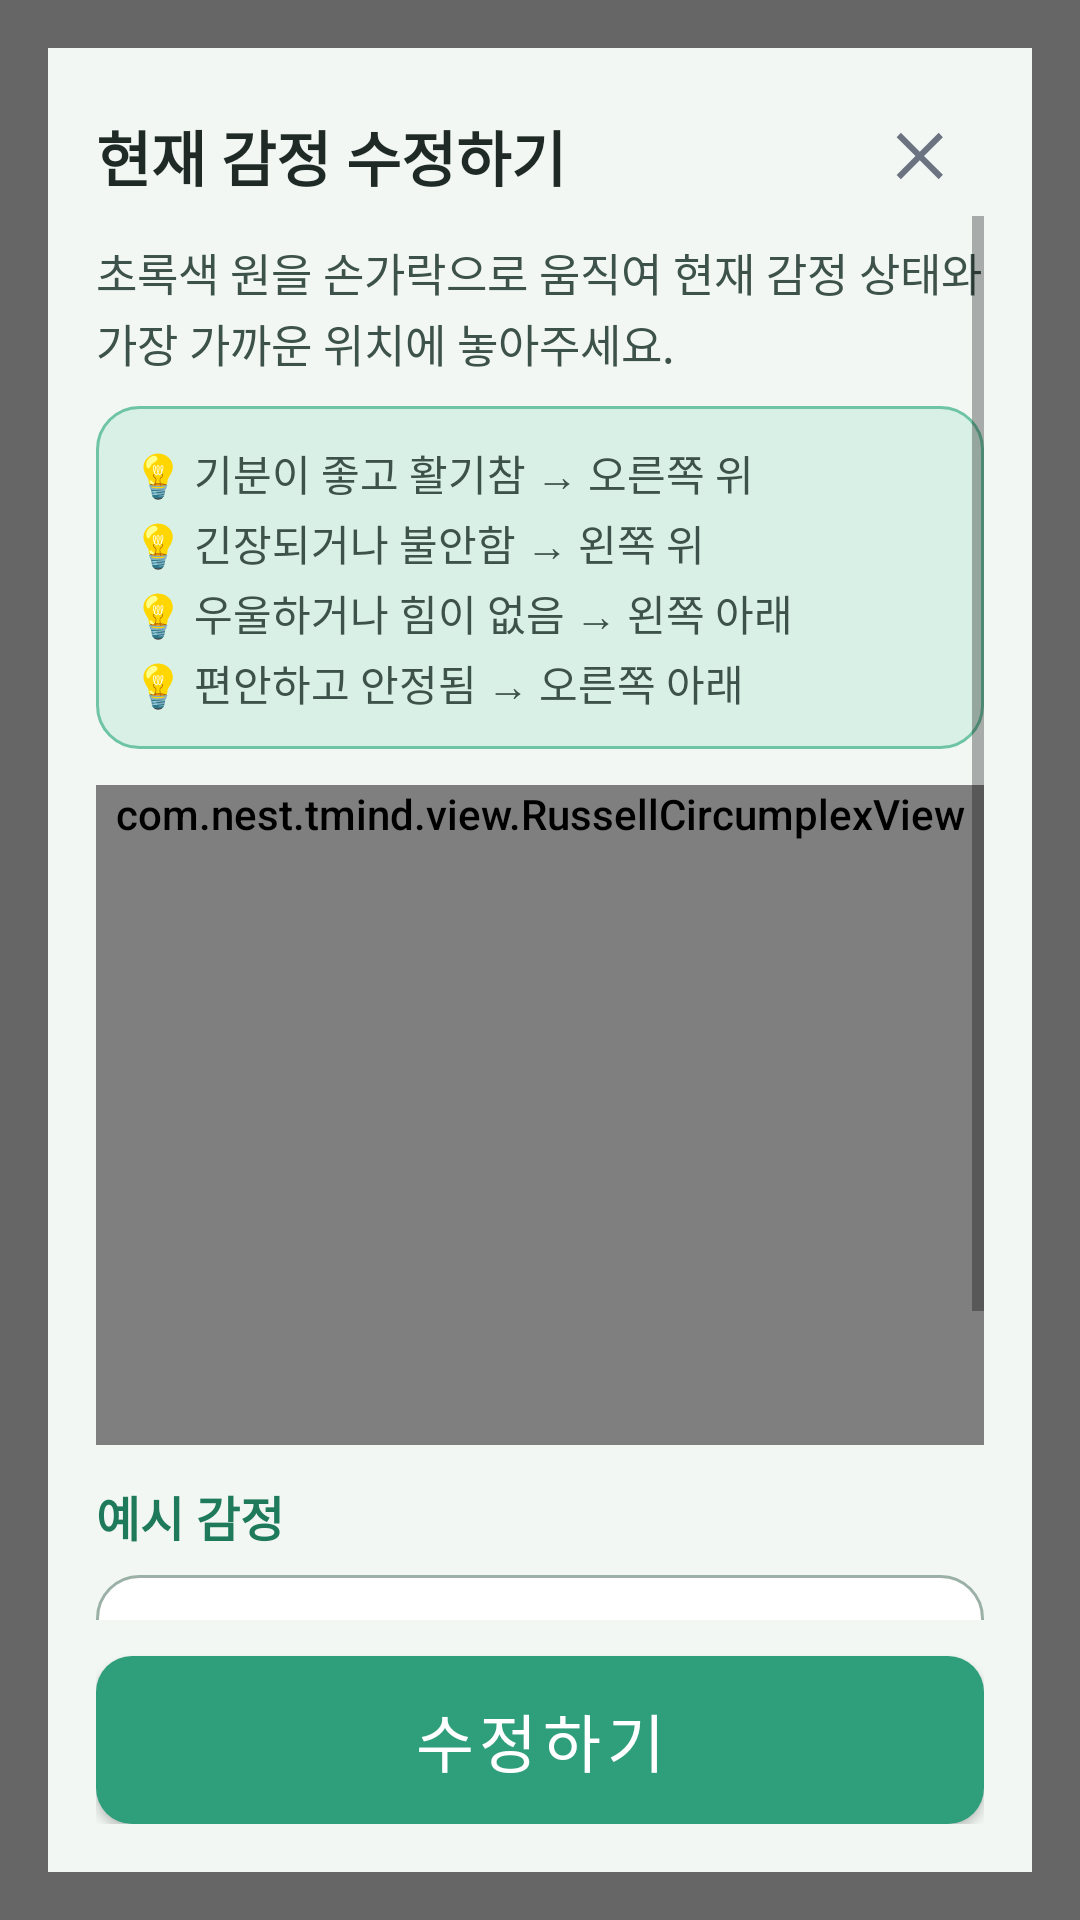

Where icons sit on this 1080*1920 app screen, as (x1, y1, x2, y2):
취소: (897, 133, 943, 179)
